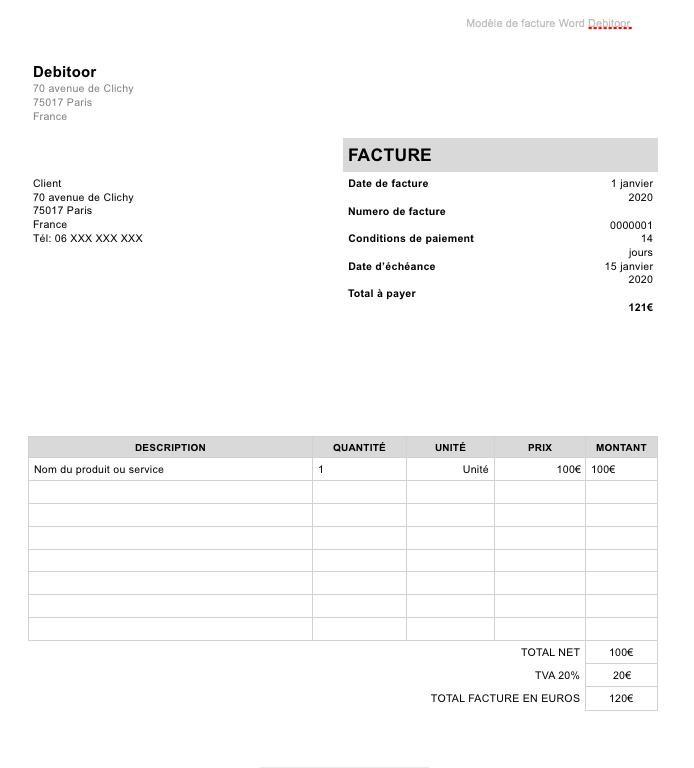ROI: (23, 436, 658, 642), (342, 138, 662, 319), (428, 644, 658, 712), (23, 169, 157, 246), (29, 59, 154, 132)
